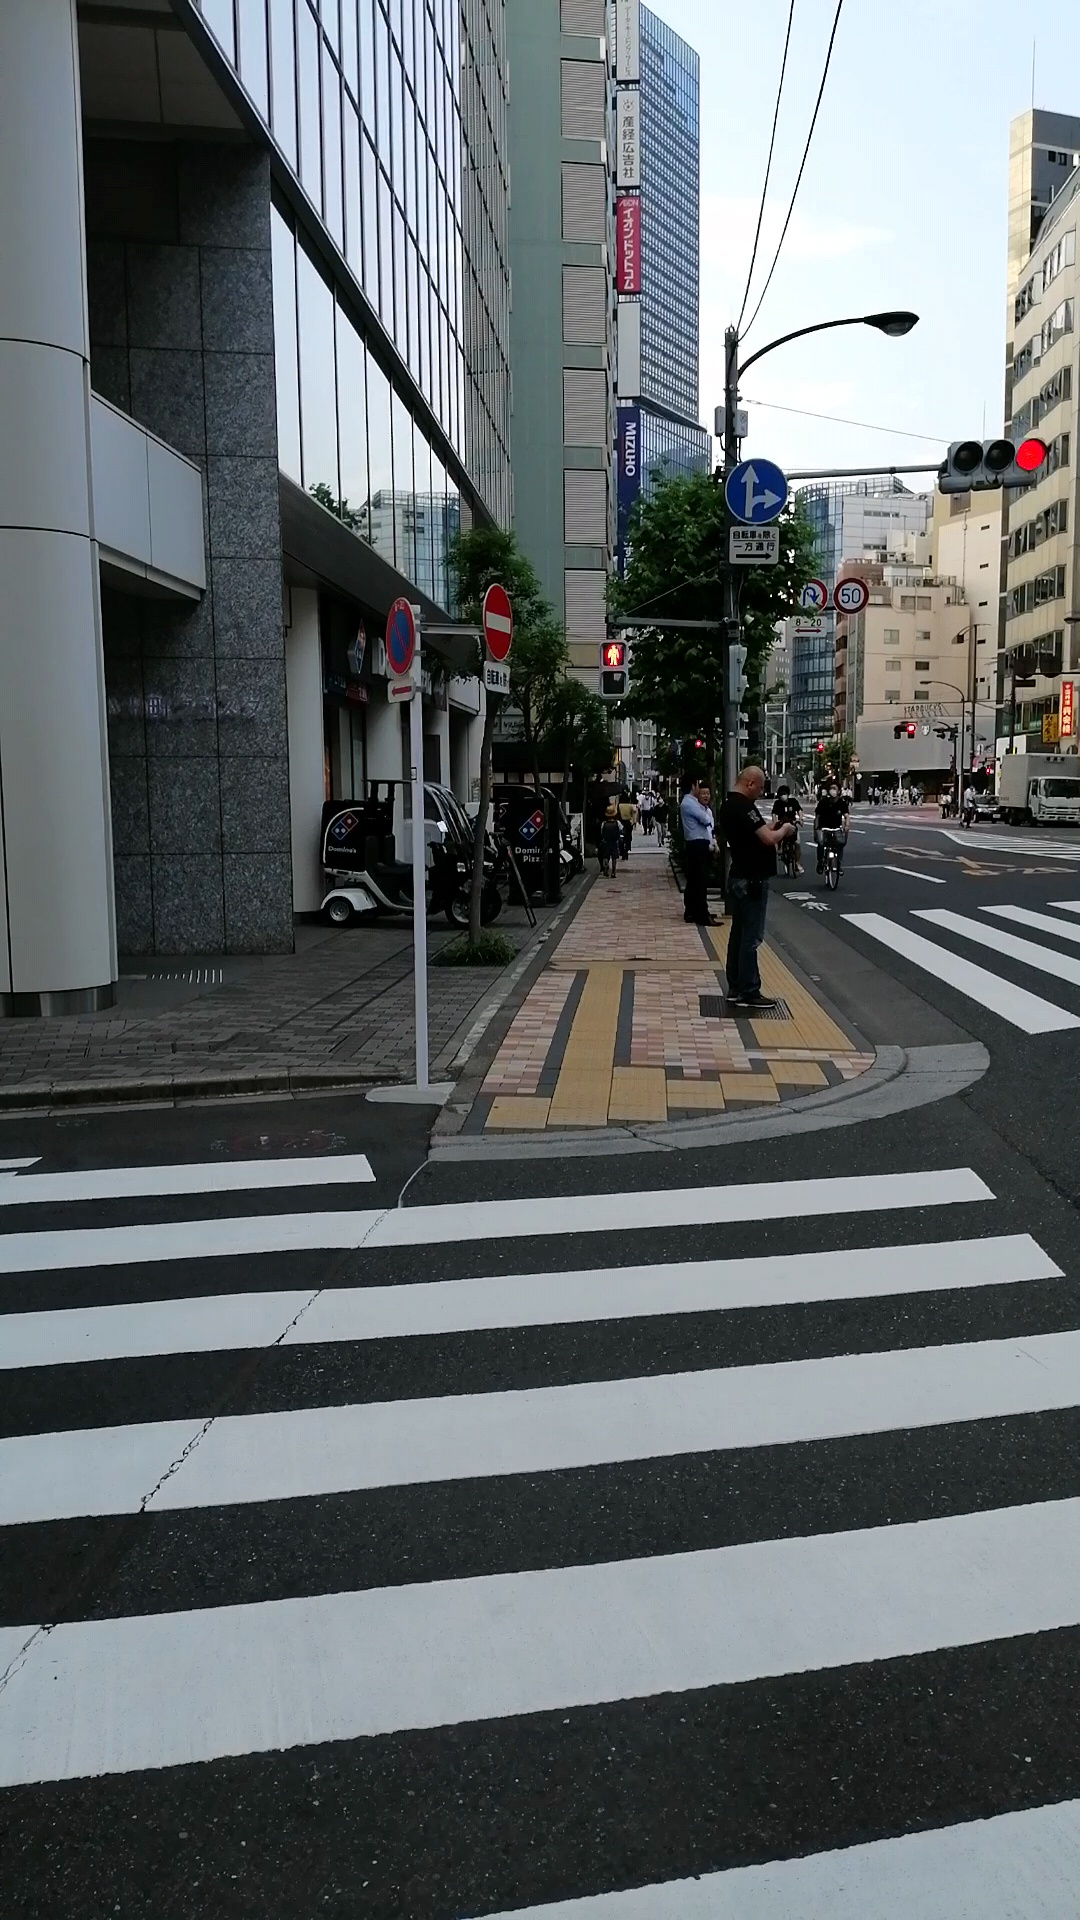red: (597, 640, 630, 699)
